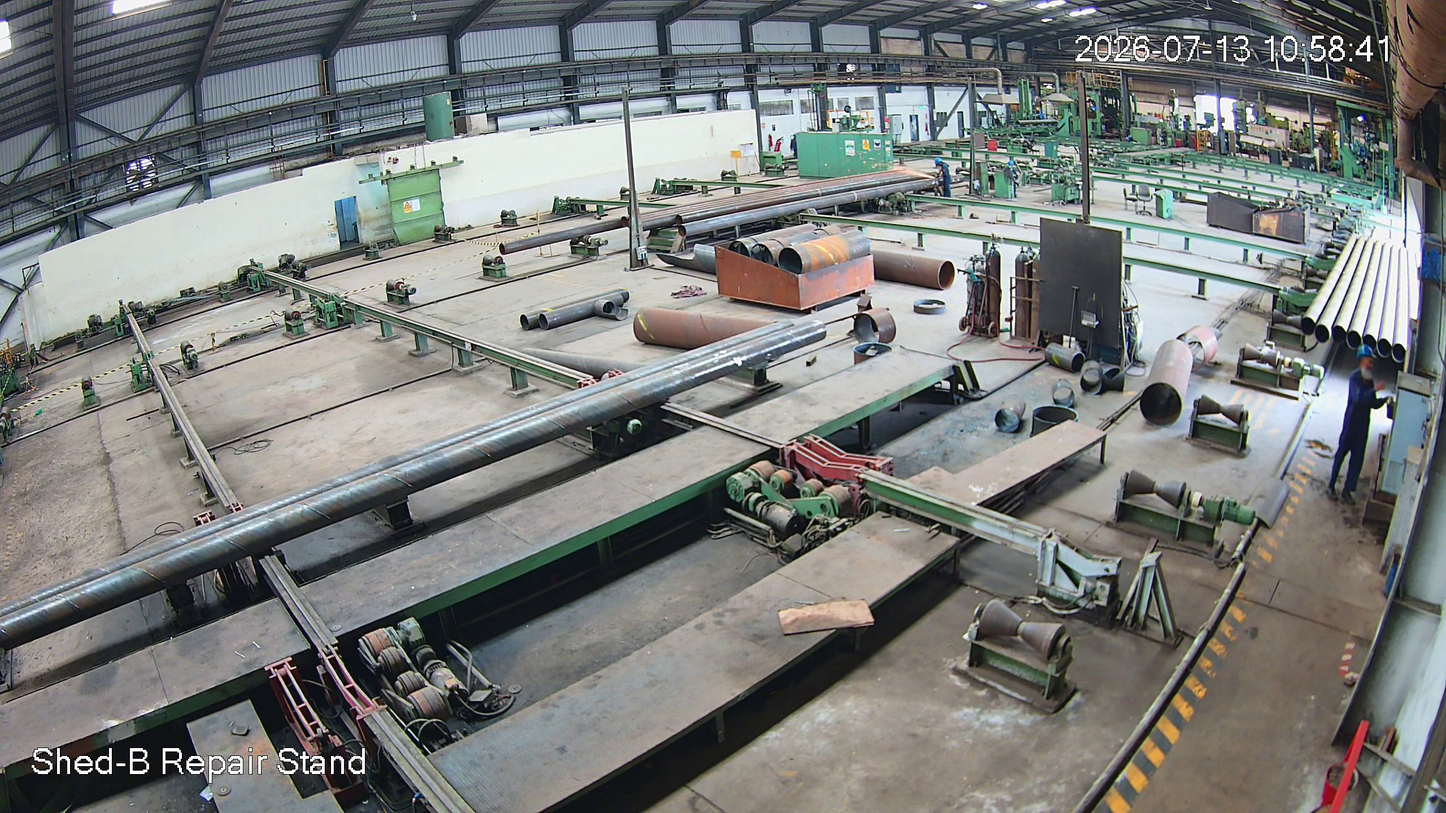Helmet: (1356, 343, 1379, 387)
Person: (1324, 347, 1382, 503)
